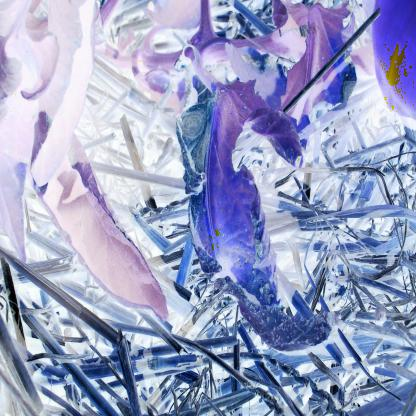tomato early blight leaf: (170, 63, 331, 349)
